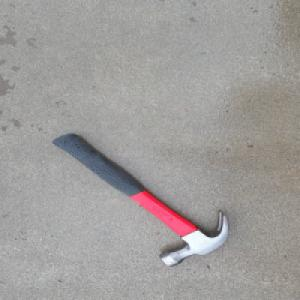Hammer: (49, 132, 232, 271)
